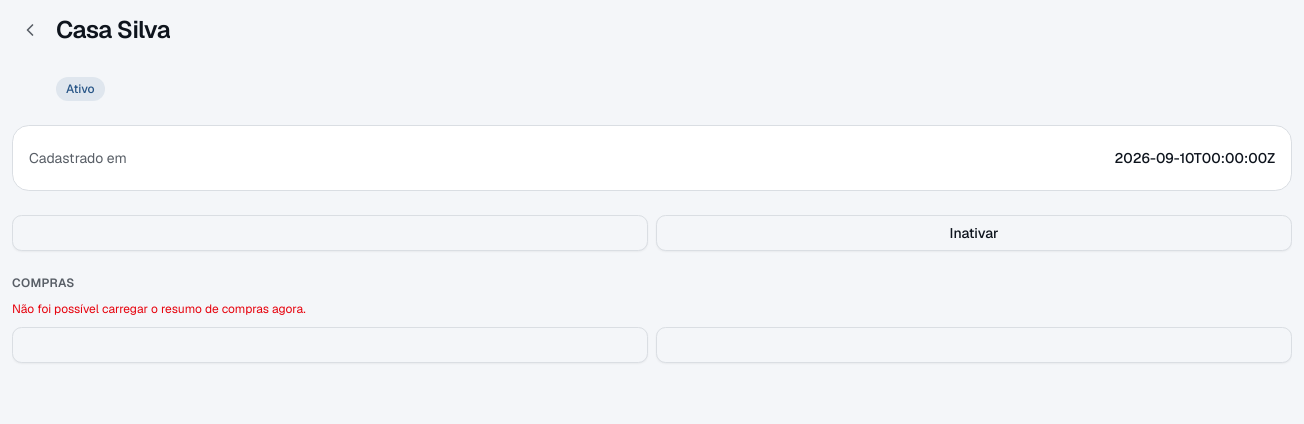
Test: SupplierDetail detail mutation state ownership — SUPPLY-FRONTEND-01A2 §5/§6/§7 › §6: an existing toggleError shown under Company A never appears on Supplier B's render after switching to B
The image size is (1304, 424).
Click the button "Inativar": (974, 233) [656,215,1292,251]
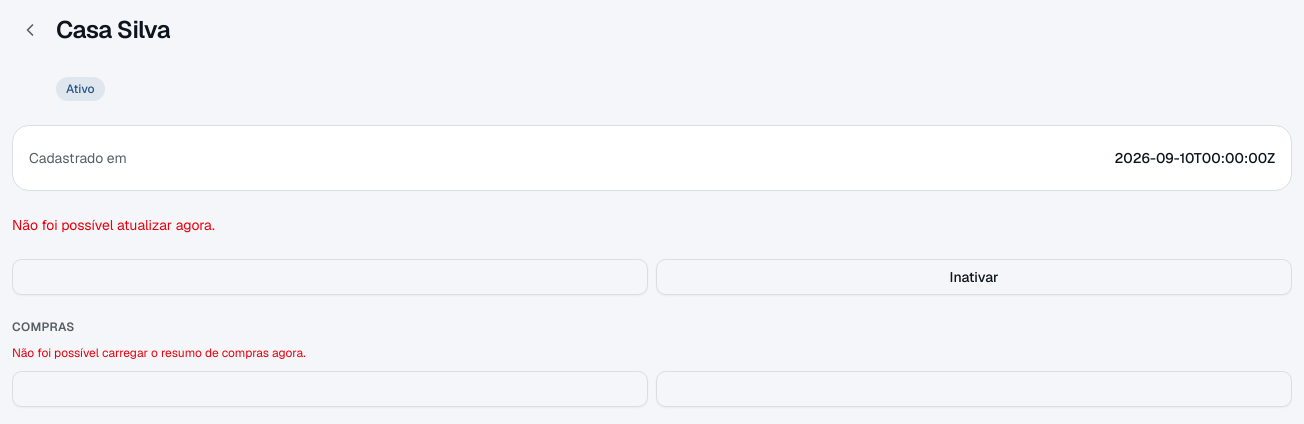
Expected: the text "Não foi possível atualizar agora." is shown, [12,216,215,234]
